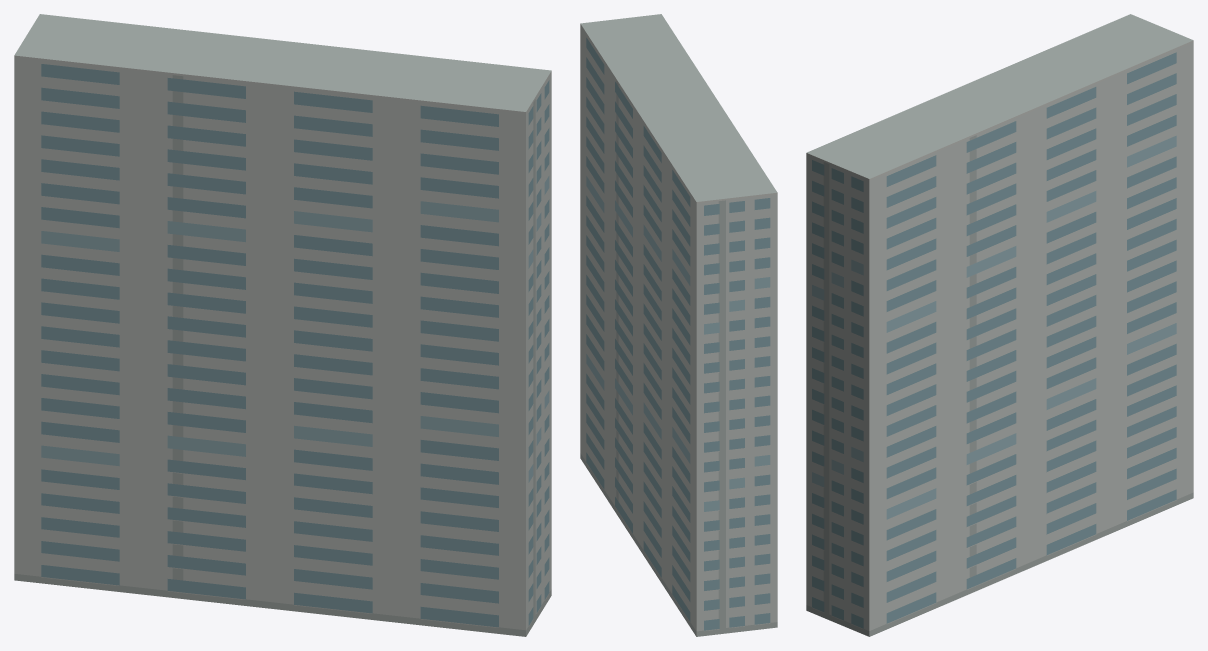
File: residential-83447d15-03e1-44a6-b0e1-2e5831271698.glb
The picture shows the model from 3 angles, left to right: view 1: azimuth 30°, elevation 25°; view 2: azimuth 150°, elevation 25°; view 3: azimuth 270°, elevation 25°; orthographic projection. The views are drawn at different scales.
Parts seen in each view (by area): view 1: residential-83447d15-03e1-44a6-b0e1-2e5831271698.tmp; view 2: residential-83447d15-03e1-44a6-b0e1-2e5831271698.tmp; view 3: residential-83447d15-03e1-44a6-b0e1-2e5831271698.tmp.
Boxes of the visible parts, x1=… form: residential-83447d15-03e1-44a6-b0e1-2e5831271698.tmp: x1=14, y1=14, x2=551, y2=636; residential-83447d15-03e1-44a6-b0e1-2e5831271698.tmp: x1=580, y1=14, x2=777, y2=636; residential-83447d15-03e1-44a6-b0e1-2e5831271698.tmp: x1=806, y1=14, x2=1193, y2=636.
Bounding box in the file's own units: 47.95 × 62 × 47.55.
